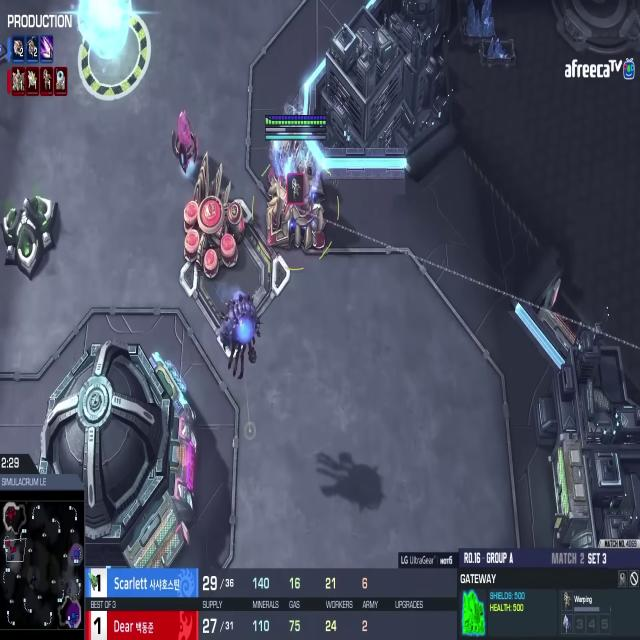overlord: (216, 281, 266, 387)
